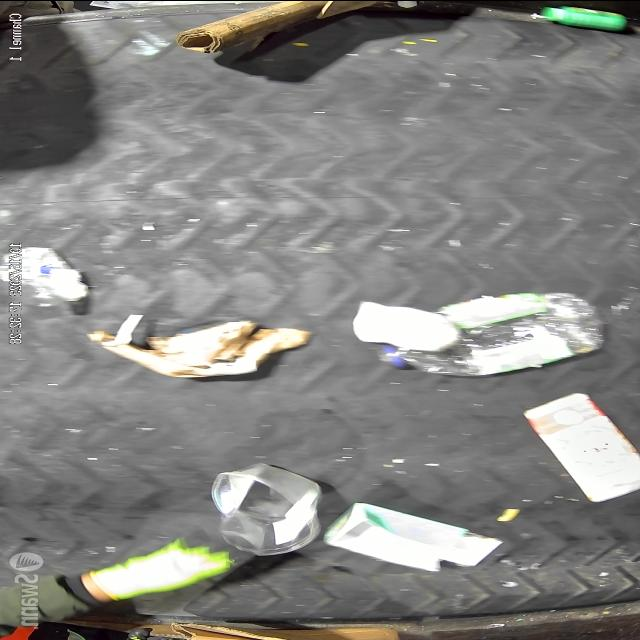plastic_bottle: (381, 294, 610, 378)
